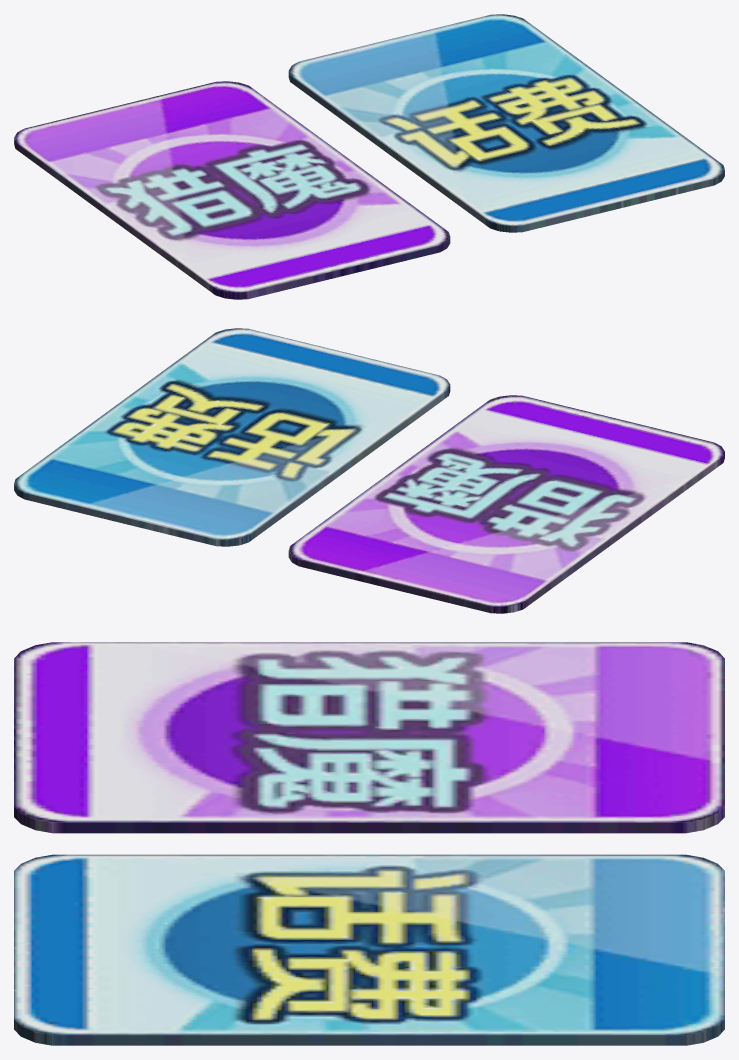
File: kajuan.fbx
3 renders of one model, top to bottom at view 1: azimuth 30°, elevation 25°; view 2: azimuth 150°, elevation 25°; view 3: azimuth 270°, elevation 25°, orthographic. The views are drawn at different scales.
Visible parts, largest first — view 1: huafeijuan, liemojuan; view 2: huafeijuan, liemojuan; view 3: huafeijuan, liemojuan.
Boxes of the visible parts, x1,y1,x2,y2 form: huafeijuan: (288, 14, 724, 232); liemojuan: (14, 81, 450, 299); huafeijuan: (14, 328, 450, 546); liemojuan: (288, 395, 724, 613); huafeijuan: (14, 854, 724, 1045); liemojuan: (14, 642, 724, 833).
Size of the model in its own units: 1.84 by 0.0226 by 1.41.
1 material, 1 textured.
